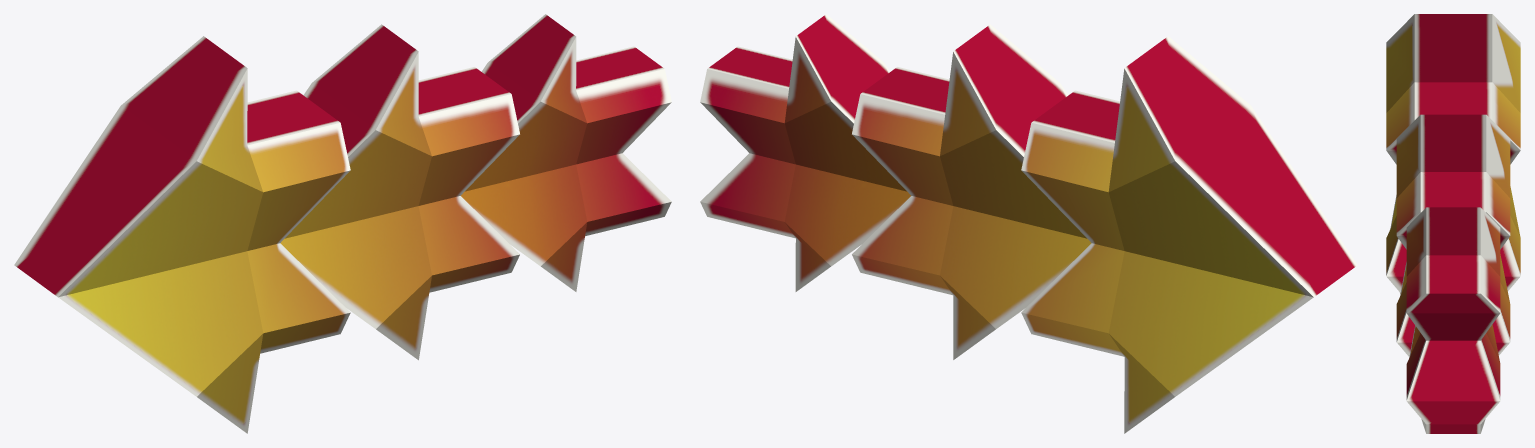
Rendered from Unlimited Charge.fbx.
The picture shows the model from 3 angles, left to right: view 1: azimuth 30°, elevation 25°; view 2: azimuth 150°, elevation 25°; view 3: azimuth 270°, elevation 25°; orthographic projection. The views are drawn at different scales.
Visible parts, largest first — view 1: Unlimited_Charge; view 2: Unlimited_Charge; view 3: Unlimited_Charge.
Boxes of the visible parts, x1,y1,x2,y2 form: Unlimited_Charge: (14,14,671,433); Unlimited_Charge: (700,14,1357,433); Unlimited_Charge: (1386,14,1520,433).
Size of the model in its own units: 308 by 175 by 65.94.
Materials: 1 (1 with a texture image).
